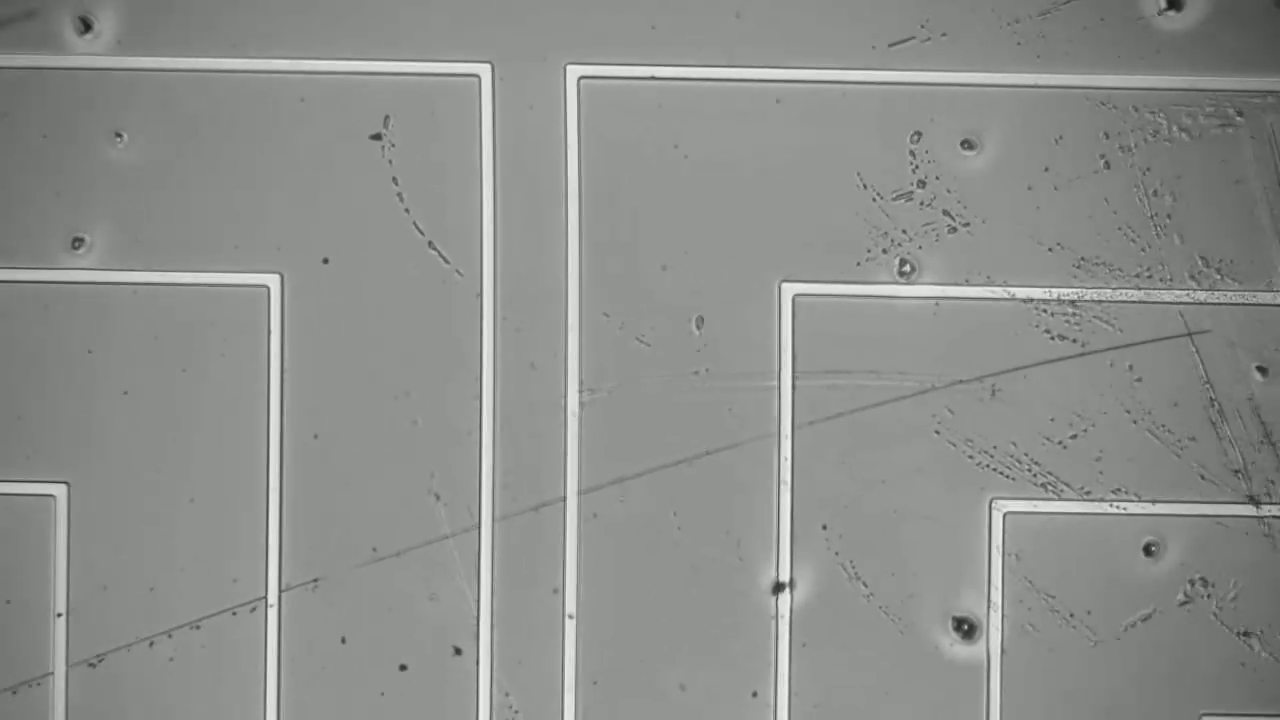scratch: (582, 321, 1211, 495), (7, 493, 560, 688), (1188, 318, 1260, 494), (383, 134, 460, 267)
stains_enbedded: (771, 567, 803, 608)
